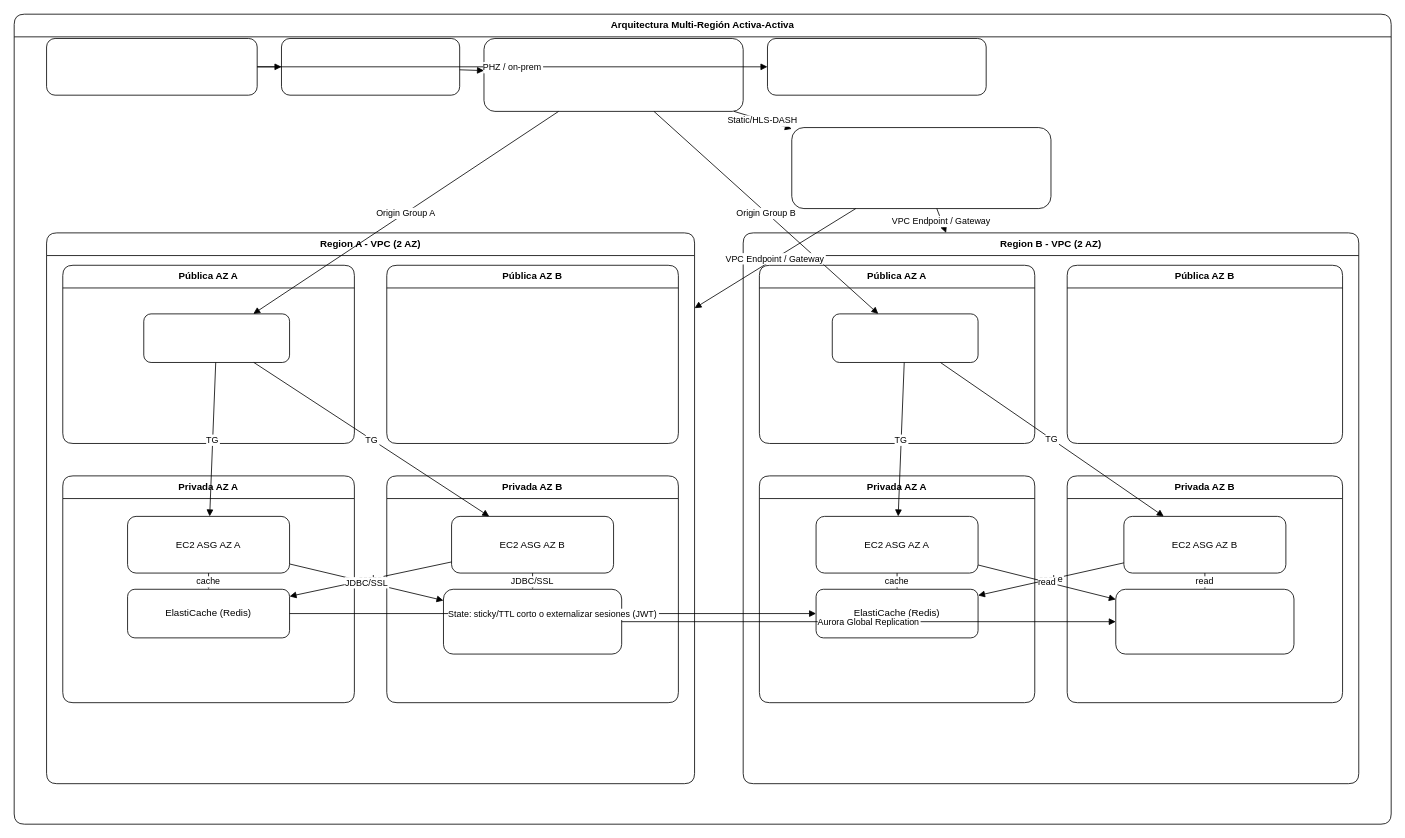
Some shapes in this 1405 by 838 pixel diagram are drawn without their labels. The shapes that lost their labels are listed below. From the top down, each one's box as (x1, y1, x2, y2) in pixels, then its label:
(46, 38, 257, 95): Amazon Route 53 (Latency/Failover Policy)
(281, 38, 460, 95): AWS WAF + Shield
(483, 38, 743, 111): Amazon CloudFront (Origins: Region A y B) Signed URLs/Cookies + OAC
(767, 38, 986, 95): Direct Connect (opcional) + VPN de respaldo
(791, 127, 1051, 209): S3 Buckets (Region A/B) OAC, CRR bidireccional (opcional)
(143, 313, 290, 362): ALB (Region A)
(831, 313, 978, 362): ALB (Region B)
(443, 588, 622, 654): Aurora Global DB - Writer (Region A - cluster primario)
(1115, 588, 1294, 654): Aurora Global DB - Reader (Region B - réplica global)
